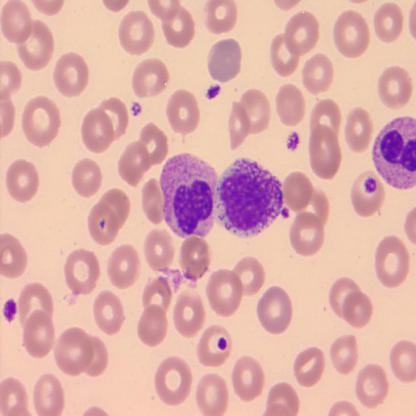Myelocyte: (222, 158, 285, 238), (160, 149, 216, 236)
